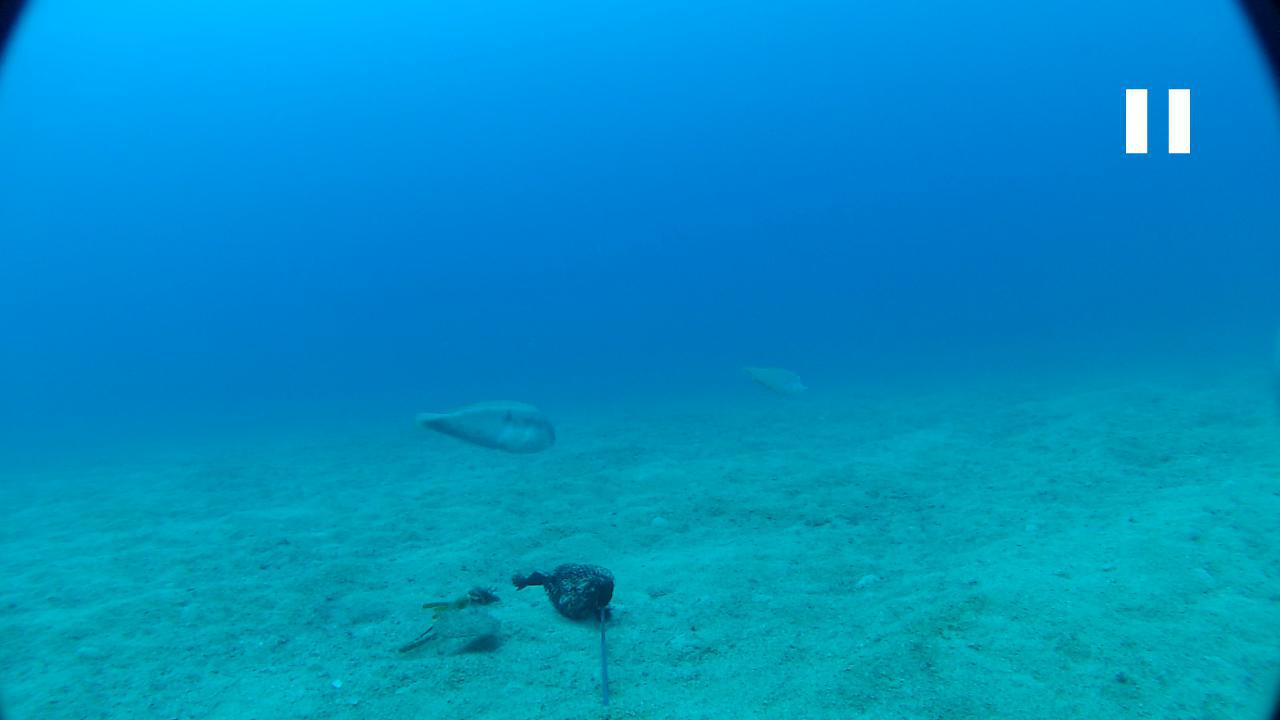bothus: (429, 605, 504, 638)
raor: (410, 397, 557, 456), (735, 360, 809, 399)
